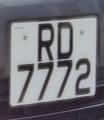2: (73, 54, 94, 99)
7: (14, 58, 37, 108), (34, 60, 58, 104), (54, 59, 75, 101)
D: (55, 18, 79, 63)
R: (33, 19, 59, 64)
